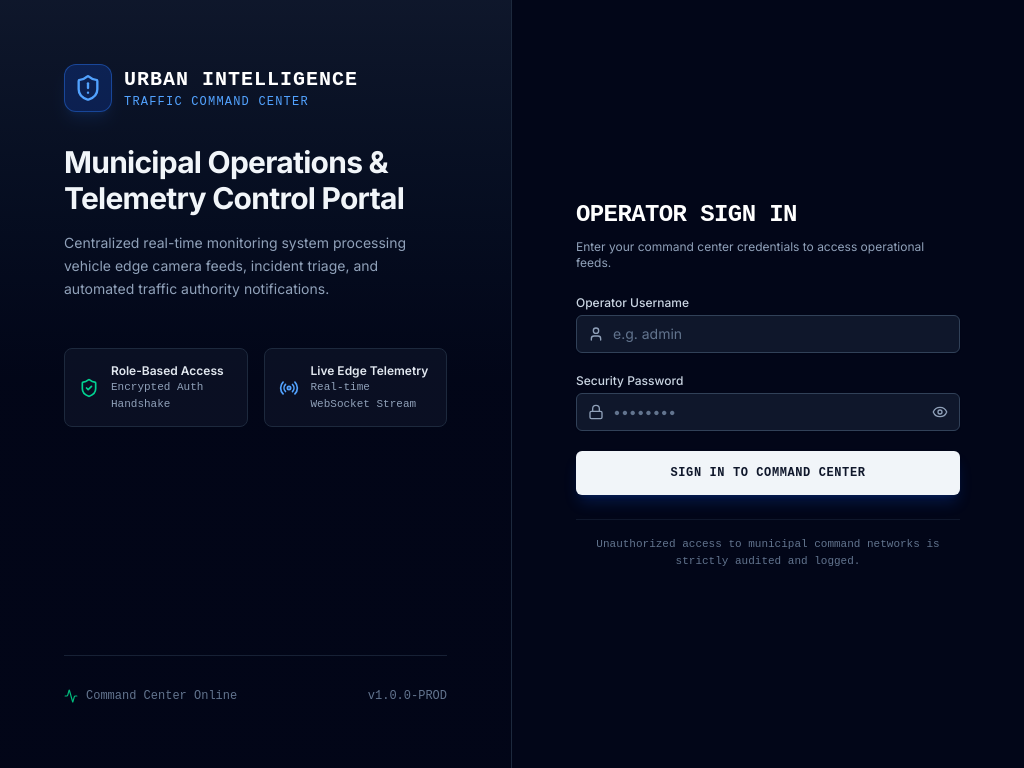
Test: Step 21 — Authentication & Role System Tests › E. shows loading state during form submission
Type "admin" into the field labelled "Operator Username".
click(768, 334); type("admin")  # box [576,315,960,353]
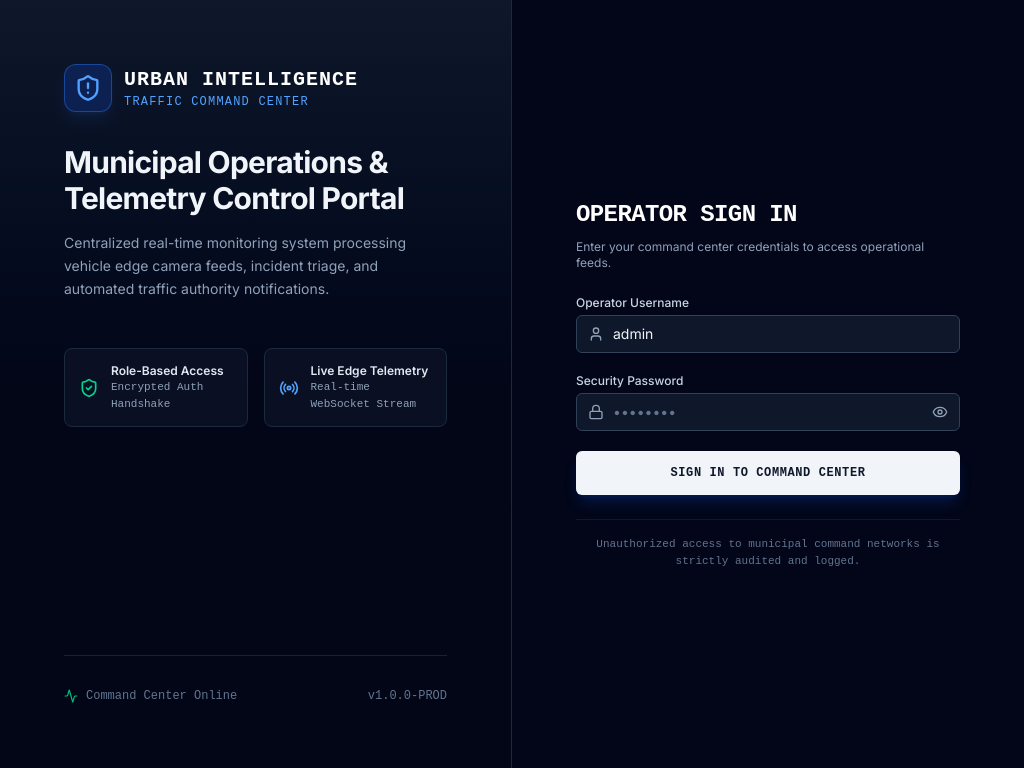
Type "password" into the password field labelled "Security Password".
click(768, 412); type("password")  # box [576,393,960,431]
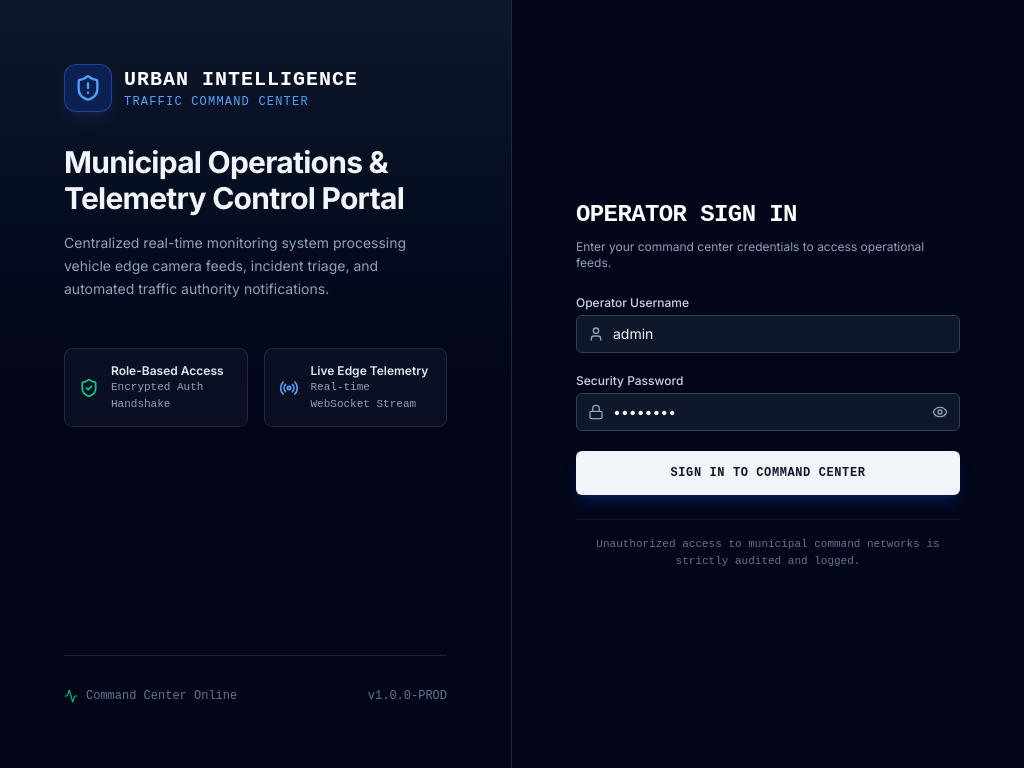
Click the button "Sign In to Command Center".
click(768, 473)  # box [576,451,960,495]
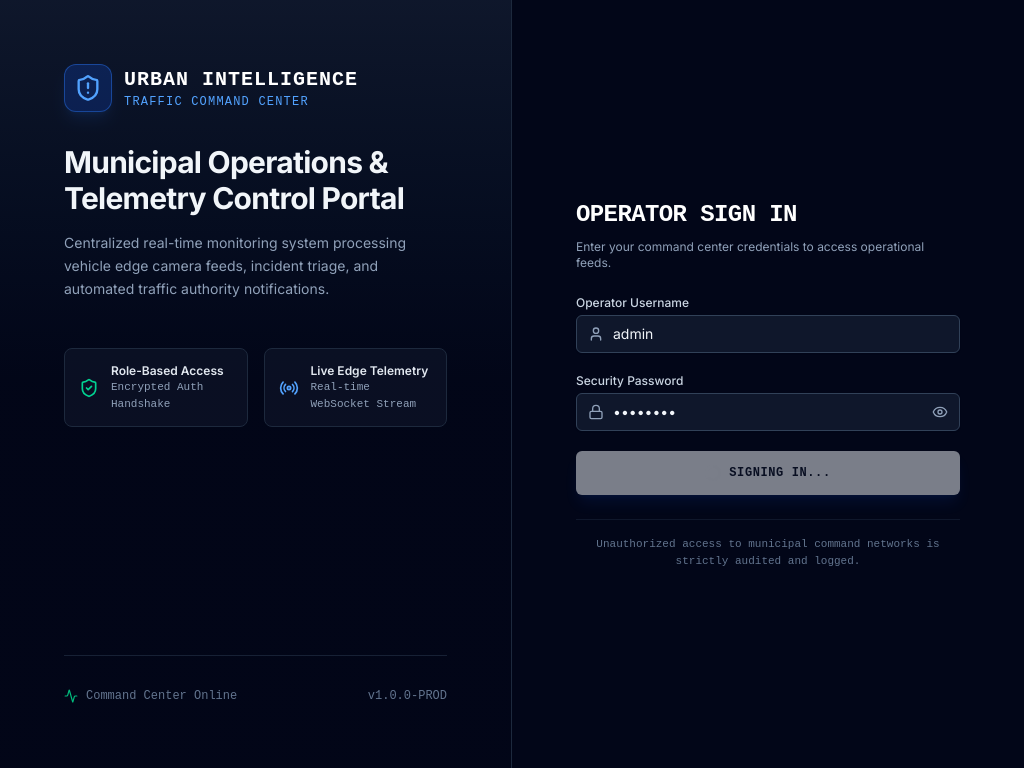
Check: the text "Signing in..." is shown, box [705,465,831,481]
Check: the button "Signing in..." is disabled, box [576,451,960,495]
